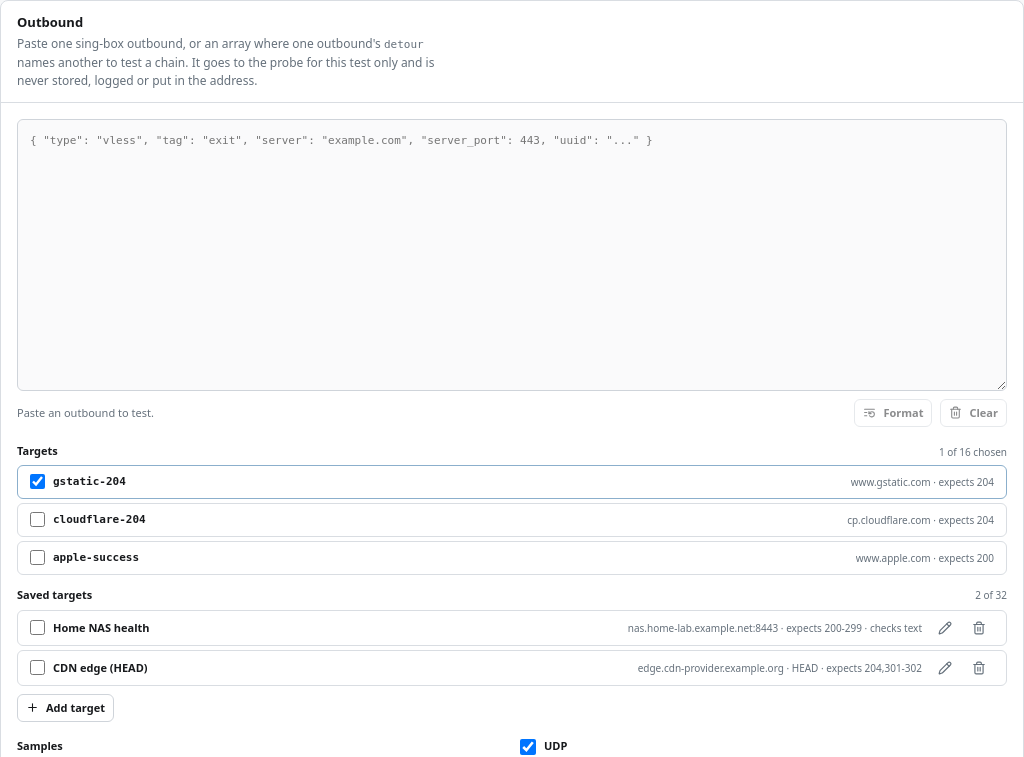
Test case: saved targets › each field's name is its label alone; its help or error describes it
Click the button "Add target": (65, 708) [17,694,114,722]
(page scrolled)
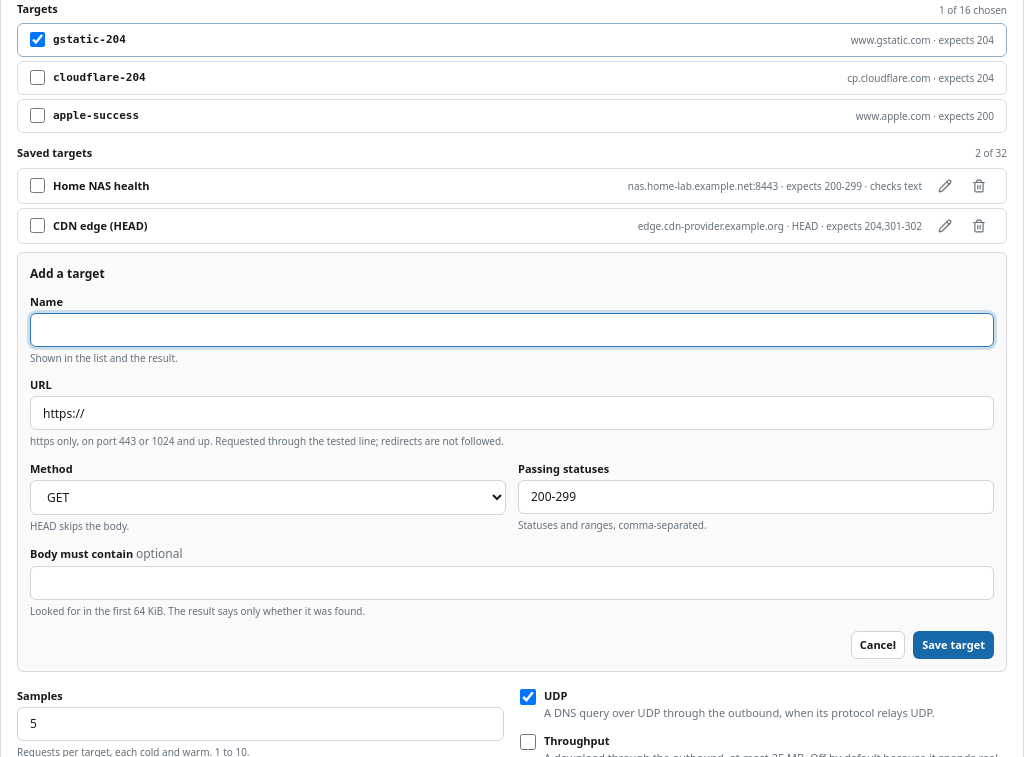
Expected: the label "URL" is shown, [30,377,52,392]
